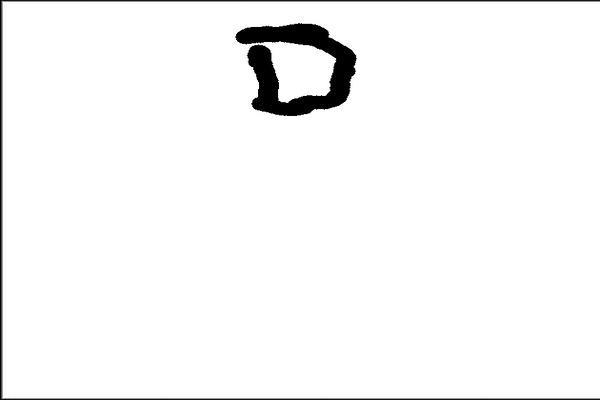D: (231, 15, 362, 121)
